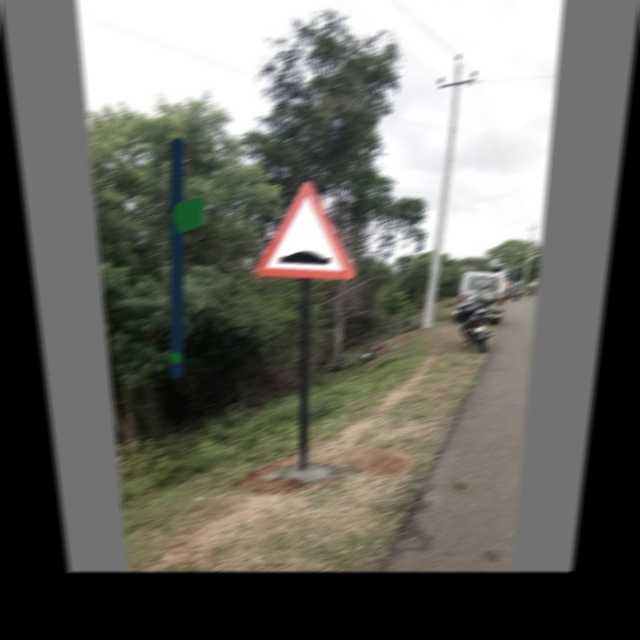Dangerous_Dip: (251, 182, 357, 278)
